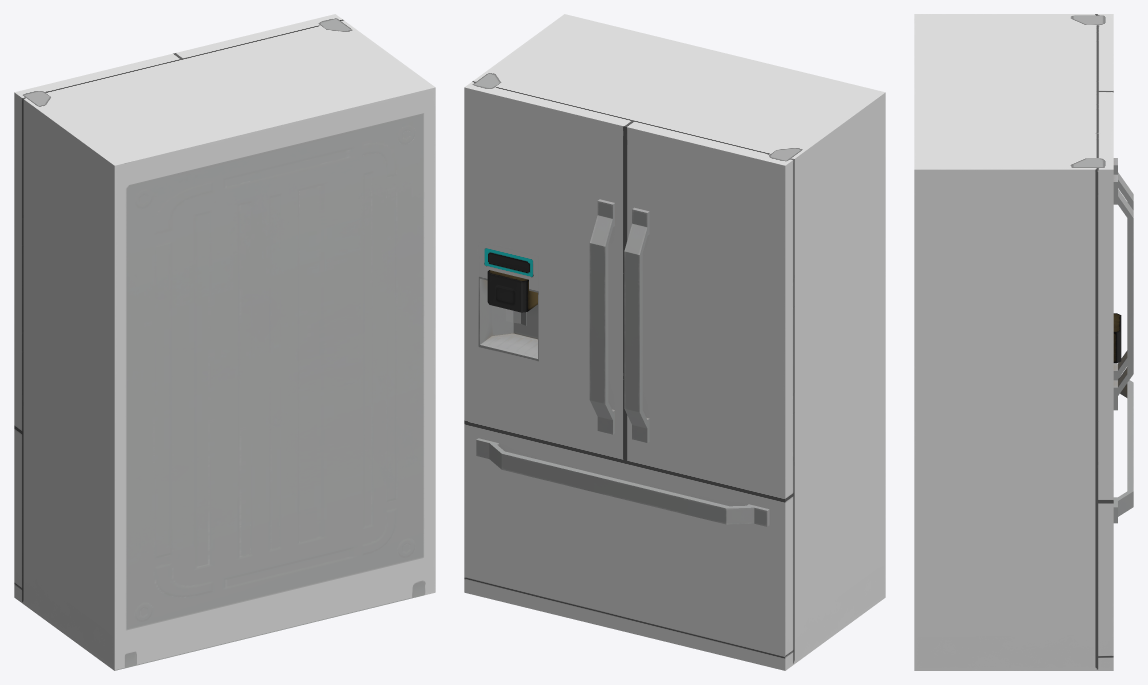
The model's file is P_Refrigerator_002_S1_M03.obj.
The picture shows the model from 3 angles, left to right: view 1: azimuth 30°, elevation 25°; view 2: azimuth 150°, elevation 25°; view 3: azimuth 270°, elevation 25°; orthographic projection.
Size of the model in its own units: 1.33 by 2 by 0.7919.
1 material, 1 textured.
